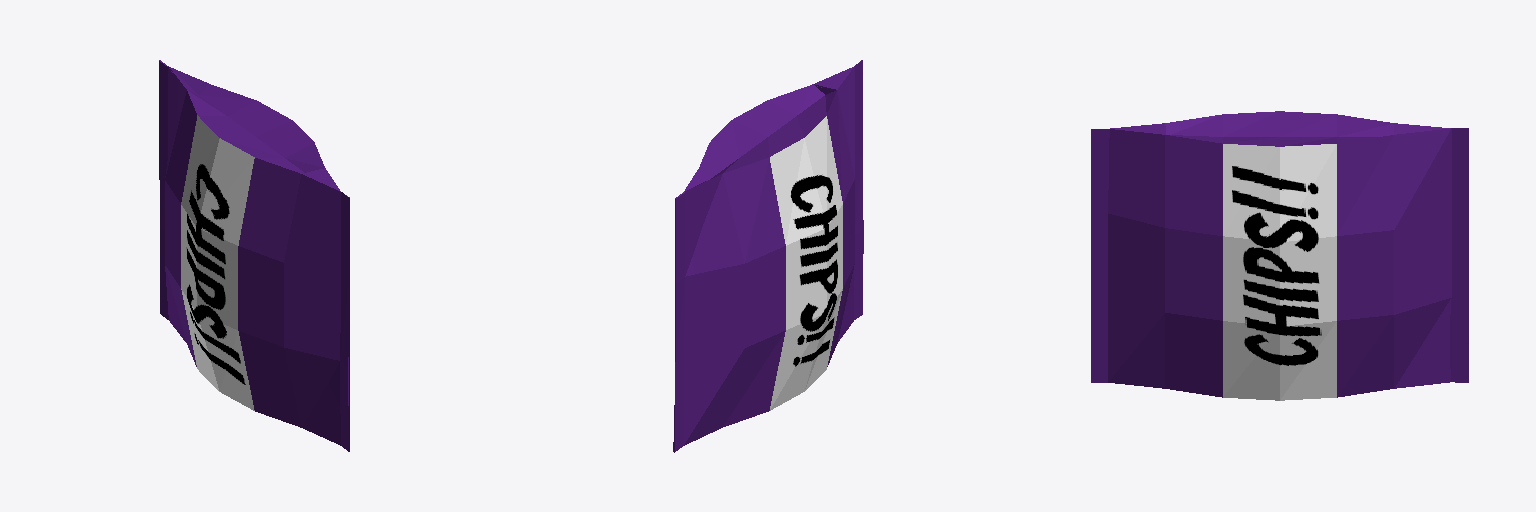
3 renders of one model, left to right at view 1: azimuth 30°, elevation 25°; view 2: azimuth 150°, elevation 25°; view 3: azimuth 270°, elevation 25°, orthographic.
Visible parts, largest first — view 1: Chips.003; view 2: Chips.003; view 3: Chips.003.
Boxes of the visible parts, x1,y1,x2,y2 form: Chips.003: [159, 60, 349, 451]; Chips.003: [673, 60, 863, 452]; Chips.003: [1091, 111, 1468, 400].
Size of the model in its own units: 0.0794 by 0.1632 by 0.2204.
1 materials, 1 textured.